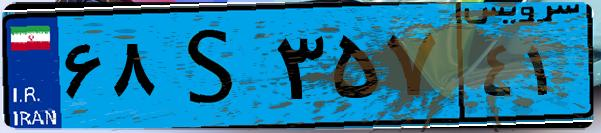1: (525, 38, 570, 115)
3: (270, 28, 330, 110)
4: (475, 38, 525, 113)
5: (330, 28, 385, 110)
6: (57, 26, 110, 100)
7: (385, 28, 445, 110)
8: (110, 28, 158, 98)
S: (158, 12, 270, 120)
